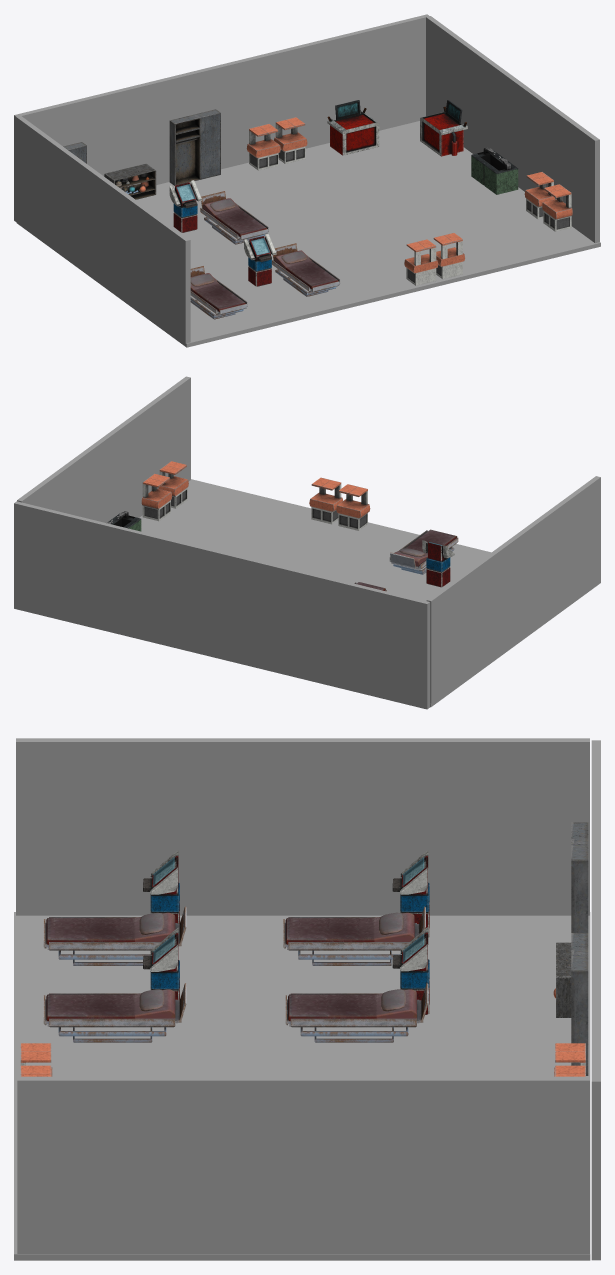
The model's file is Fase6.fbx.
3 views of the same model, one above another, from view 1: azimuth 30°, elevation 25°; view 2: azimuth 150°, elevation 25°; view 3: azimuth 270°, elevation 25° (orthographic). The views are drawn at different scales.
Parts seen in each view (by area): view 1: CHAO, PAREDE_TRAS, PAREDE_L, PAREDE_L1, ARMARIO2, MESA_C2, MACA2, MACA1, MESA_C1, MACA3, MESA_M, HUD4 (+8 smaller); view 2: PAREDE_TRAS, PAREDE_L, CHAO, PAREDE_L1, MACA2, MESA_U4, MESA_U3, MESA_U5, HUD1, MESA_U6; view 3: PAREDE_L1, PAREDE_L, CHAO, MACA2, MACA1, MACA4, MACA3, PAREDE_TRAS, ARMARIO2, ARMARIO1, HUD3, HUD4 (+4 smaller).
Part boxes in pixels (x1=…): CHAO: x1=16, y1=121, x2=600, y2=347; PAREDE_TRAS: x1=14, y1=14, x2=429, y2=222; PAREDE_L: x1=16, y1=116, x2=190, y2=343; PAREDE_L1: x1=426, y1=16, x2=599, y2=243; ARMARIO2: x1=169, y1=109, x2=220, y2=185; MESA_C2: x1=327, y1=100, x2=379, y2=155; MACA2: x1=272, y1=243, x2=340, y2=296; MACA1: x1=200, y1=191, x2=268, y2=244; MESA_C1: x1=420, y1=100, x2=467, y2=156; MACA3: x1=190, y1=266, x2=247, y2=319; MESA_M: x1=471, y1=147, x2=518, y2=194; HUD4: x1=169, y1=180, x2=202, y2=232; PAREDE_TRAS: x1=14, y1=501, x2=429, y2=709; PAREDE_L: x1=426, y1=476, x2=600, y2=703; CHAO: x1=139, y1=479, x2=600, y2=707; PAREDE_L1: x1=17, y1=376, x2=190, y2=522; MACA2: x1=389, y1=529, x2=458, y2=574; MESA_U4: x1=336, y1=484, x2=370, y2=530; MESA_U3: x1=309, y1=477, x2=342, y2=524; MESA_U5: x1=141, y1=473, x2=171, y2=521; HUD1: x1=422, y1=540, x2=454, y2=587; MESA_U6: x1=158, y1=461, x2=188, y2=508; PAREDE_L1: x1=17, y1=1076, x2=589, y2=1253; PAREDE_L: x1=16, y1=738, x2=589, y2=915; CHAO: x1=14, y1=912, x2=590, y2=1260; MACA2: x1=43, y1=983, x2=186, y2=1042; MACA1: x1=285, y1=983, x2=428, y2=1042; MACA4: x1=283, y1=906, x2=425, y2=965; MACA3: x1=43, y1=906, x2=186, y2=965; PAREDE_TRAS: x1=591, y1=740, x2=600, y2=1260; ARMARIO2: x1=571, y1=933, x2=588, y2=1075; ARMARIO1: x1=571, y1=822, x2=588, y2=932; HUD3: x1=392, y1=850, x2=429, y2=937; HUD4: x1=392, y1=927, x2=429, y2=1014.
Size of the model in its own units: 32.52 by 7.97 by 23.55.
9 materials, 7 textured.
